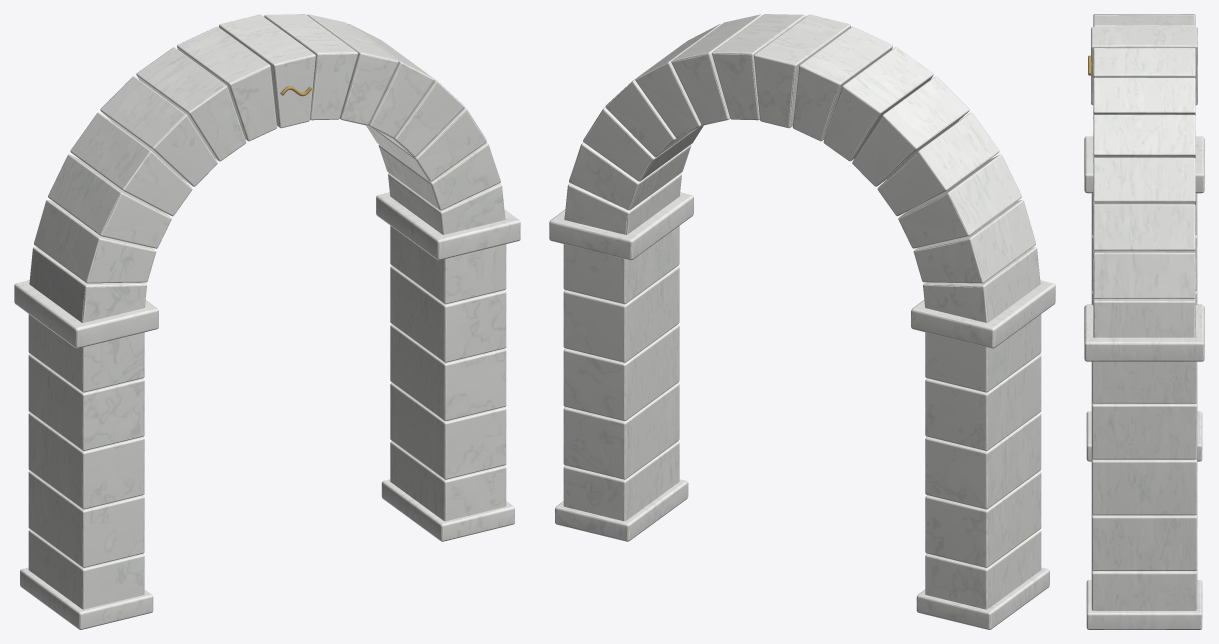
Rendered from archway.glb.
3 renders of one model, left to right at view 1: azimuth 30°, elevation 25°; view 2: azimuth 150°, elevation 25°; view 3: azimuth 270°, elevation 25°, orthographic. The views are drawn at different scales.
Visible parts, largest first — view 1: 07 Archway; view 2: 07 Archway; view 3: 07 Archway.
Boxes of the visible parts, bbox=[...] form: 07 Archway: bbox=[14, 14, 520, 629]; 07 Archway: bbox=[549, 14, 1055, 629]; 07 Archway: bbox=[1084, 14, 1204, 629].
Size of the model in its own units: 3.35 by 3.71 by 0.82.
Materials: 2 (2 with a texture image).
